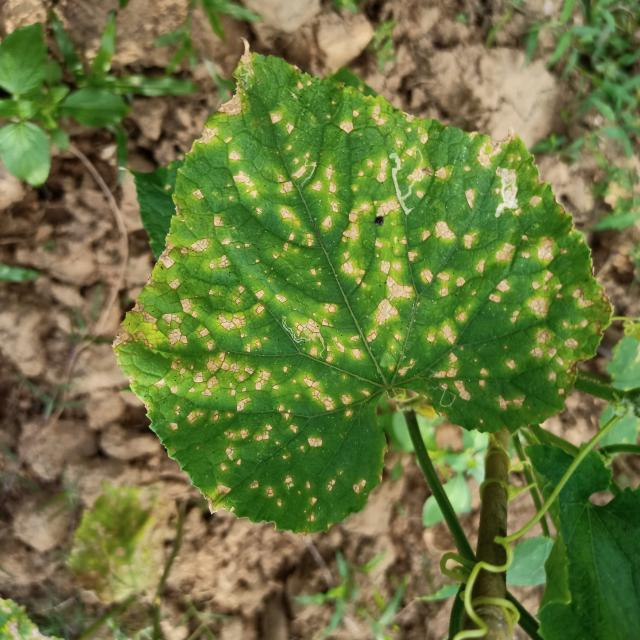disease_cucumber: (128, 67, 584, 514)
